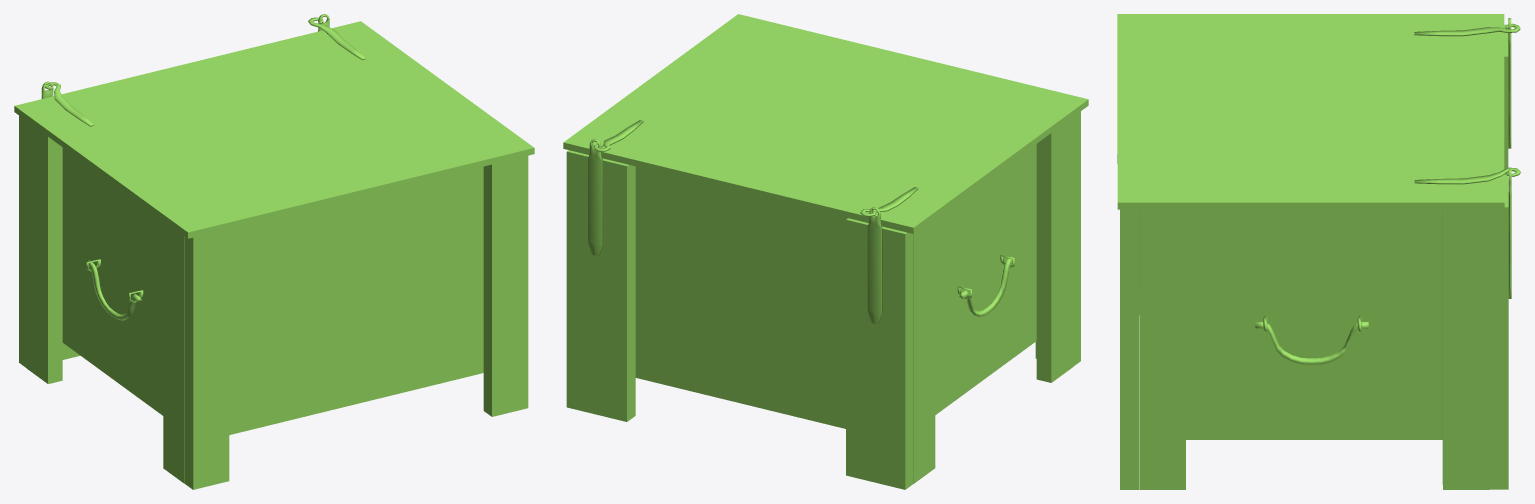
File: Wooden_Box_3_Closed_M.fbx
3 views of the same model, side by side, from view 1: azimuth 30°, elevation 25°; view 2: azimuth 150°, elevation 25°; view 3: azimuth 270°, elevation 25° (orthographic). The views are drawn at different scales.
Parts seen in each view (by area): view 1: Wooden Box_3_Closed_LOD0; view 2: Wooden Box_3_Closed_LOD0; view 3: Wooden Box_3_Closed_LOD0.
Boxes of the visible parts, bbox=[...] form: Wooden Box_3_Closed_LOD0: bbox=[14, 14, 534, 489]; Wooden Box_3_Closed_LOD0: bbox=[563, 14, 1088, 489]; Wooden Box_3_Closed_LOD0: bbox=[1117, 14, 1520, 489].
Size of what is drawn, in the model's own units: 80.96 by 60.83 by 73.12.
